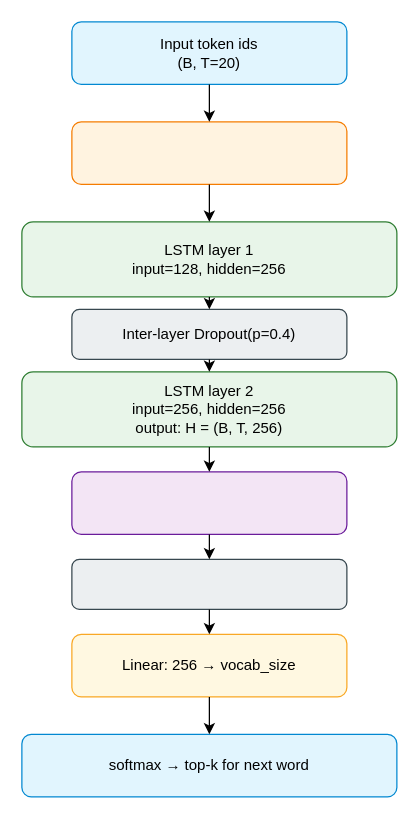
The diagram is 419 pixels wide and 819 high, and some of its shapes have lost their labels. The centre of each missing label's shape, as x and y in pixels:
"Dropout(p=0.4)" goes at (x=209, y=583).
"Embedding vocab → 128" goes at (x=209, y=152).
"h_T = H[:, -1, :] (B, 256)" goes at (x=209, y=502).
